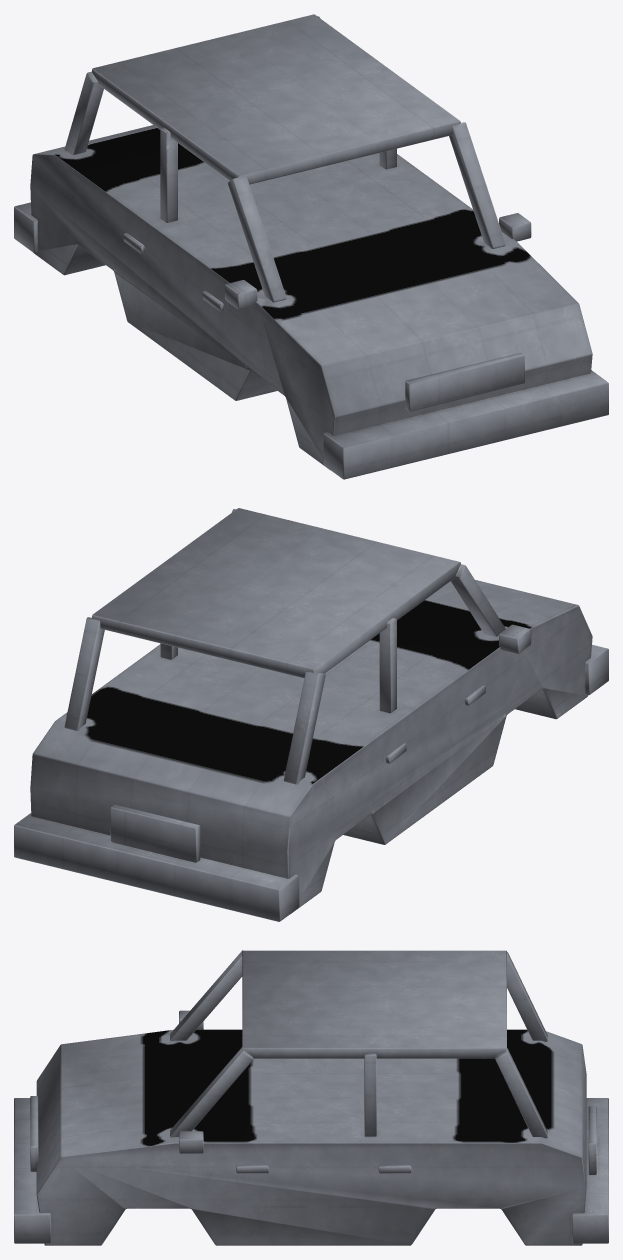
The model's file is Compacto_Carroceria.fbx.
3 views of the same model, one above another, from view 1: azimuth 30°, elevation 25°; view 2: azimuth 150°, elevation 25°; view 3: azimuth 270°, elevation 25° (orthographic). The views are drawn at different scales.
Parts seen in each view (by area): view 1: Compacto_Carroceria; view 2: Compacto_Carroceria; view 3: Compacto_Carroceria.
Part boxes in pixels (<box>): Compacto_Carroceria: <box>14,14,608,479</box>; Compacto_Carroceria: <box>14,508,608,921</box>; Compacto_Carroceria: <box>14,950,608,1245</box>.
Size of the model in its own units: 7.5 by 5.15 by 14.6.
